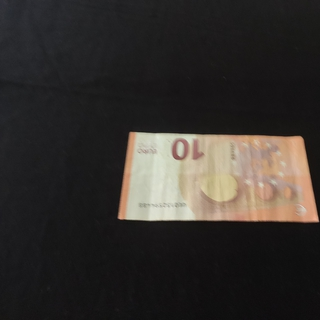10EUROBack: (117, 131, 319, 223)
